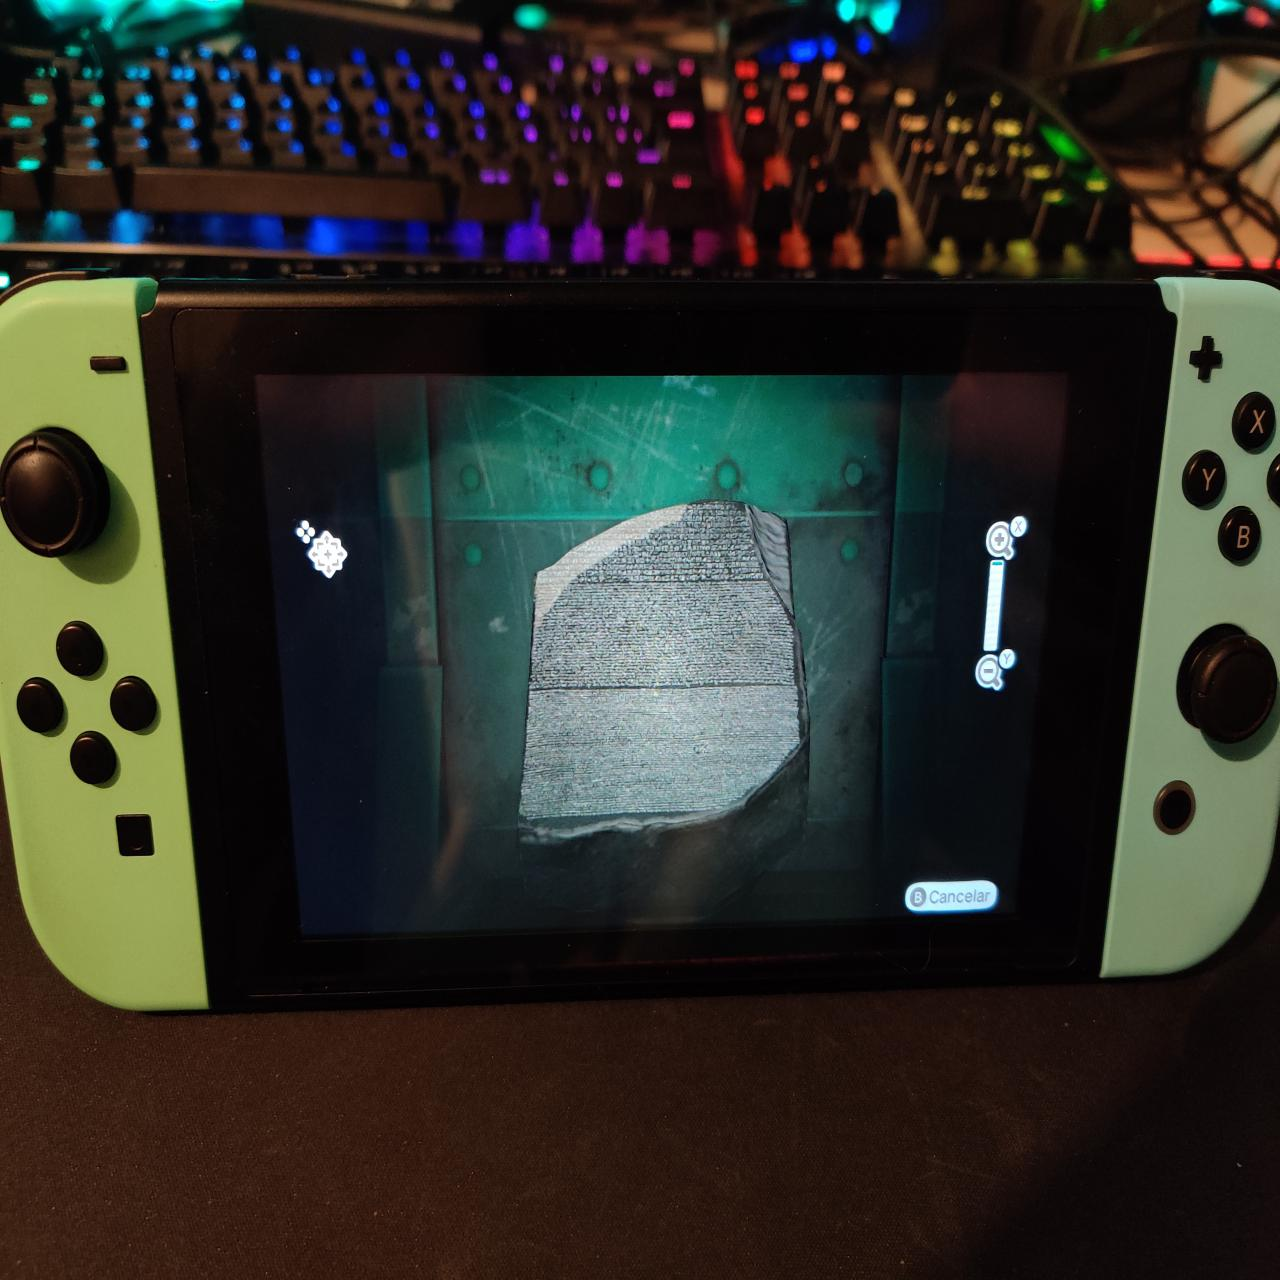RosettaStone: (518, 492, 816, 915)
